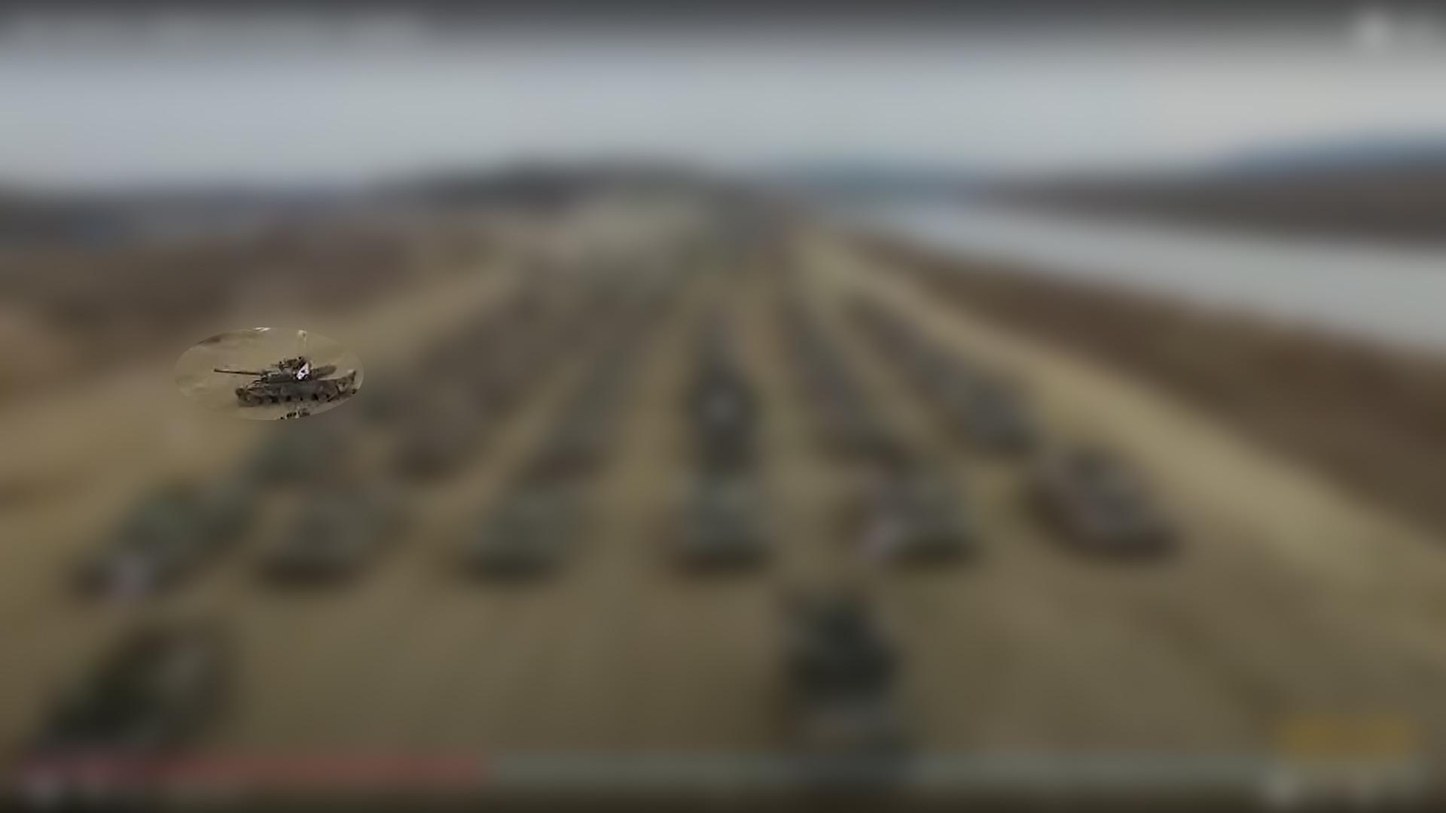tank: (211, 354, 362, 411)
